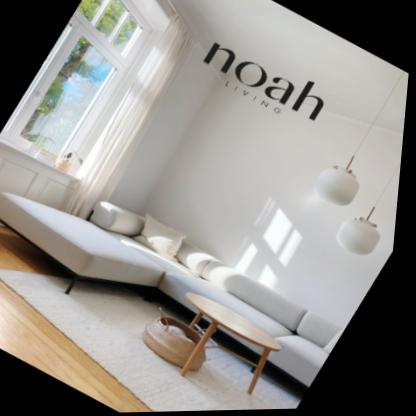Wooden floor: (0, 222, 161, 413)
